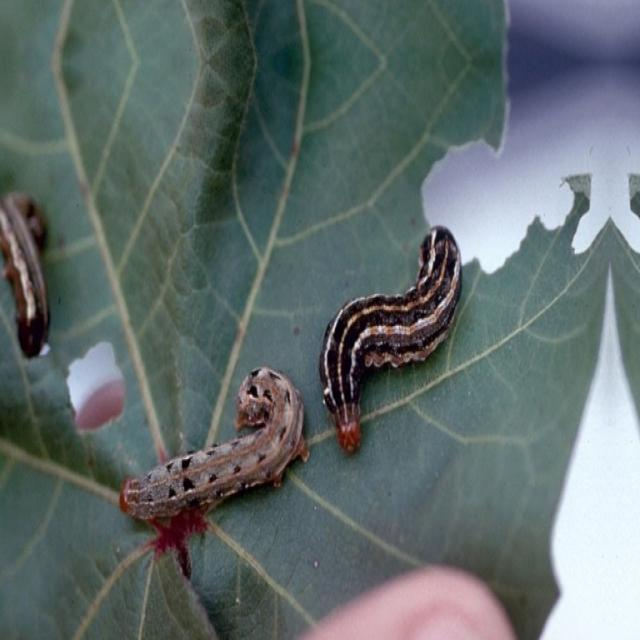armyworm: (318, 224, 462, 454), (118, 364, 310, 523), (0, 189, 51, 358)
